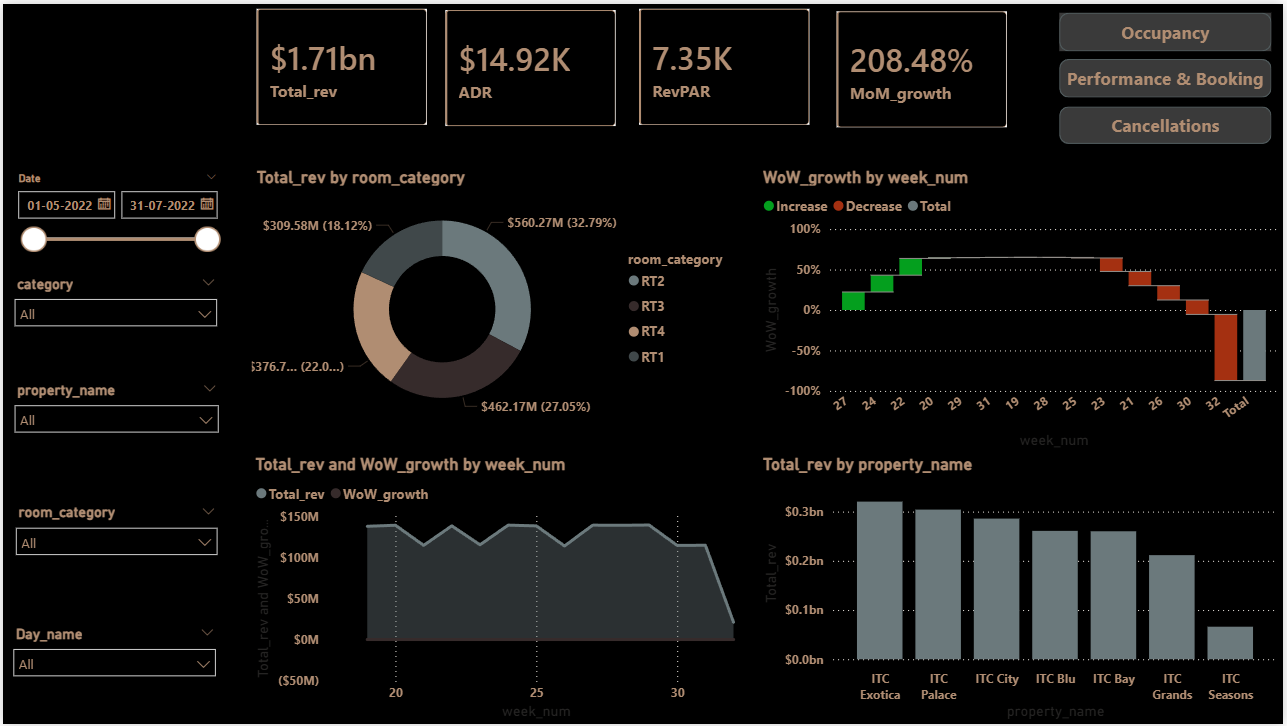

What the dashboard file says about the page in this screenshot:
{"tool":"powerbi","page":{"name":"Page 3","canvas":[1280,720],"ordinal":2},"visuals":[{"type":"cardVisual","fields":{"Data":["Z.Total_rev"]},"box":[248.5,0,181,126.7],"z":0},{"type":"cardVisual","fields":{"Data":["Z.ADR"]},"box":[437.9,1.2,181,126.7],"z":1000},{"type":"cardVisual","fields":{"Data":["Z.RevPAR"]},"box":[631,0,181,126.7],"z":2000},{"type":"donutChart","fields":{"Category":["bookings.room_category"],"Y":["Z.Total_rev"]},"box":[248.5,162.9,498.3,266.6],"z":3000},{"type":"areaChart","fields":{"Category":["Calender.week_num"],"Y":["Z.Total_rev","Z.WoW_growth"]},"box":[247.3,450,498.3,270.2],"z":4000},{"type":"shape","box":[1055.6,8.4,212.3,38.6],"z":5000},{"type":"waterfallChart","fields":{"Y":["Z.WoW_growth"],"Category":["Calender.week_num"]},"box":[755.2,162.9,524.8,287.1],"z":6000},{"type":"slicer","fields":{"Values":["Calender.Date"]},"box":[2.4,162.9,223.2,90.5],"z":7000},{"type":"slicer","fields":{"Values":["hotels.category"]},"box":[1.2,266.6,223.2,92.9],"z":8000},{"type":"slicer","fields":{"Values":["hotels.property_name"]},"box":[0,372.8,224.4,113.4],"z":9000},{"type":"slicer","fields":{"Values":["occupancy.room_category"]},"box":[2.4,494.6,222,112.2],"z":10000},{"type":"slicer","fields":{"Values":["Calender.Day_name"]},"box":[0,616.5,223.2,103.8],"z":11000},{"type":"columnChart","fields":{"Y":["Z.Total_rev"],"Category":["hotels.property_name"]},"box":[755.2,450,524.8,270.2],"z":12000},{"type":"shape","box":[1055.6,55.5,212.3,38.6],"z":13000},{"type":"shape","box":[1055.6,102.5,212.3,37.4],"z":14000},{"type":"cardVisual","fields":{"Data":["Z.MoM_growth"]},"box":[828.8,2.4,181,126.7],"z":15000}]}

Visuals, with their boxes in screenshot pixels (x1, y1, x2, y2), scaled from the page's 1280x720 canvas onto the 1287x726 screenshot:
cardVisual - Z.Total_rev: bbox(250, 0, 432, 128)
cardVisual - Z.ADR: bbox(440, 1, 622, 129)
cardVisual - Z.RevPAR: bbox(634, 0, 816, 128)
donutChart - bookings.room_category x Z.Total_rev: bbox(250, 164, 751, 433)
areaChart - Calender.week_num x Z.Total_rev: bbox(249, 454, 750, 725)
shape: bbox(1061, 8, 1275, 47)
waterfallChart - Z.WoW_growth x Calender.week_num: bbox(759, 164, 1286, 454)
slicer - Calender.Date: bbox(2, 164, 227, 256)
slicer - hotels.category: bbox(1, 269, 226, 362)
slicer - hotels.property_name: bbox(0, 376, 226, 490)
slicer - occupancy.room_category: bbox(2, 499, 226, 612)
slicer - Calender.Day_name: bbox(0, 622, 224, 725)
columnChart - Z.Total_rev x hotels.property_name: bbox(759, 454, 1286, 725)
shape: bbox(1061, 56, 1275, 95)
shape: bbox(1061, 103, 1275, 141)
cardVisual - Z.MoM_growth: bbox(833, 2, 1015, 130)
